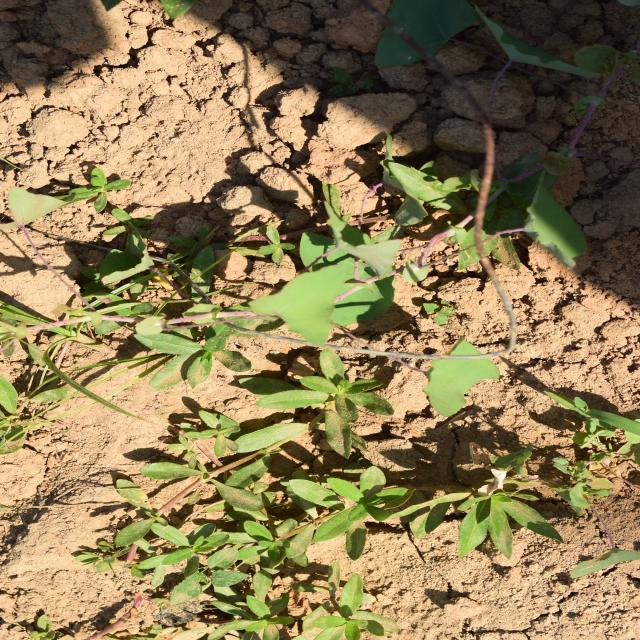Asiatic_Smartweed: (288, 239, 461, 425)
